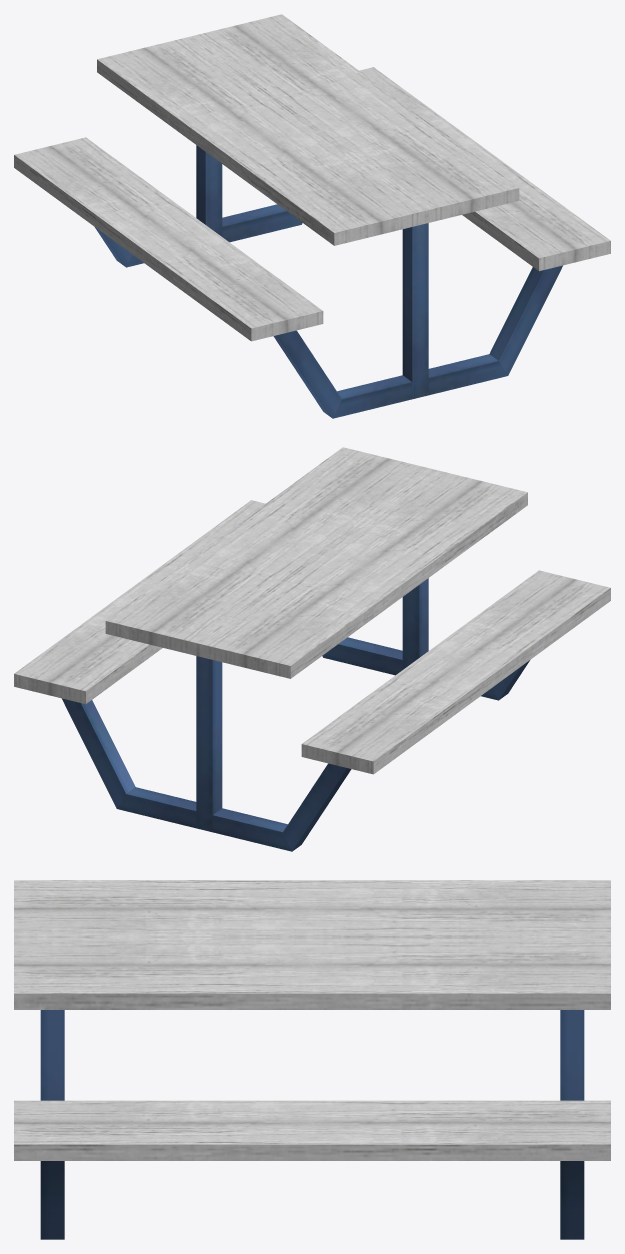
Rendered from chair.glb.
3 views of the same model, one above another, from view 1: azimuth 30°, elevation 25°; view 2: azimuth 150°, elevation 25°; view 3: azimuth 270°, elevation 25° (orthographic). The views are drawn at different scales.
Parts seen in each view (by area): view 1: bench_prison_yard010; view 2: bench_prison_yard010; view 3: bench_prison_yard010.
Boxes of the visible parts, box(x1,y1,x2,y2) form: bench_prison_yard010: box(14, 14, 610, 418); bench_prison_yard010: box(14, 447, 610, 851); bench_prison_yard010: box(14, 880, 610, 1239).
Bounding box in the file's own units: 1.75 × 0.91 × 2.
Materials: 1 (1 with a texture image).
